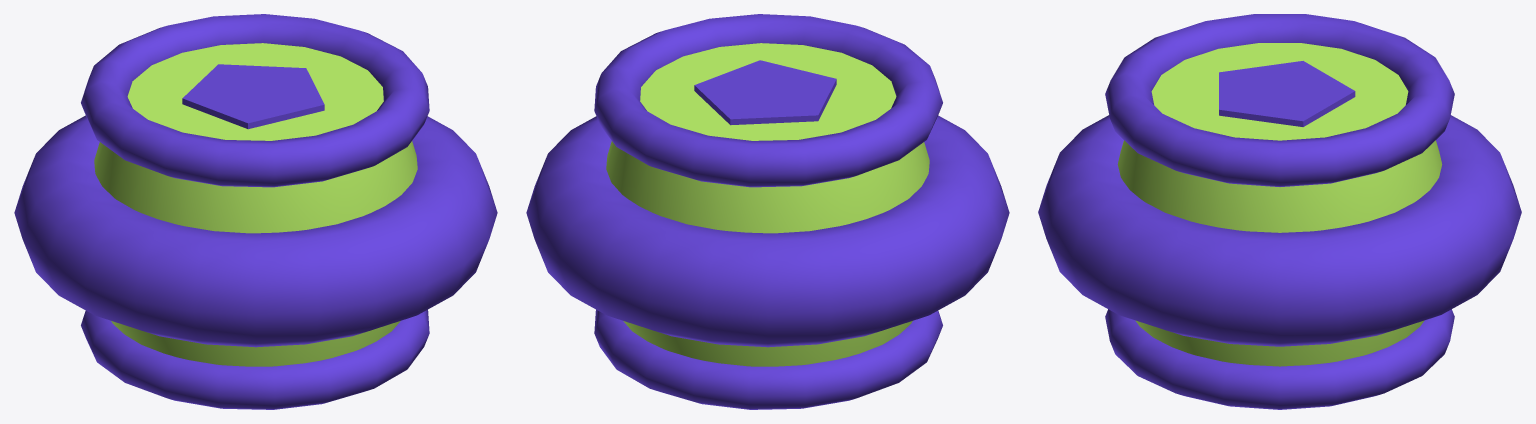
Rendered from Bumper.fbx.
3 views of the same model, side by side, from view 1: azimuth 30°, elevation 25°; view 2: azimuth 150°, elevation 25°; view 3: azimuth 270°, elevation 25° (orthographic).
Parts seen in each view (by area): view 1: Torus.001, Cylinder, Torus, Torus.002, Cylinder.001; view 2: Torus.001, Cylinder, Torus, Torus.002, Cylinder.001; view 3: Torus.001, Cylinder, Torus, Torus.002, Cylinder.001.
Boxes of the visible parts, <box> form: Torus.001: <box>14,115,497,347</box>; Cylinder: <box>94,43,417,366</box>; Torus: <box>81,14,429,187</box>; Torus.002: <box>81,309,429,409</box>; Cylinder.001: <box>182,64,324,129</box>; Torus.001: <box>526,115,1009,347</box>; Cylinder: <box>606,43,929,366</box>; Torus: <box>594,14,942,187</box>; Torus.002: <box>594,309,942,409</box>; Cylinder.001: <box>694,60,836,125</box>; Torus.001: <box>1038,115,1521,346</box>; Cylinder: <box>1117,43,1442,366</box>; Torus: <box>1105,14,1454,186</box>; Torus.002: <box>1105,309,1454,409</box>; Cylinder.001: <box>1219,61,1355,126</box>.
Bounding box in the file's own units: 204 × 123 × 204.
